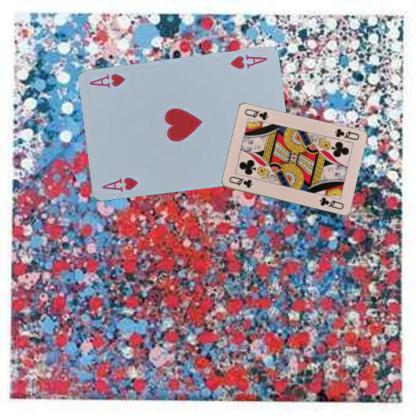Ah: (227, 51, 268, 71), (99, 174, 139, 193)
Qc: (332, 126, 360, 142), (226, 174, 254, 189)
